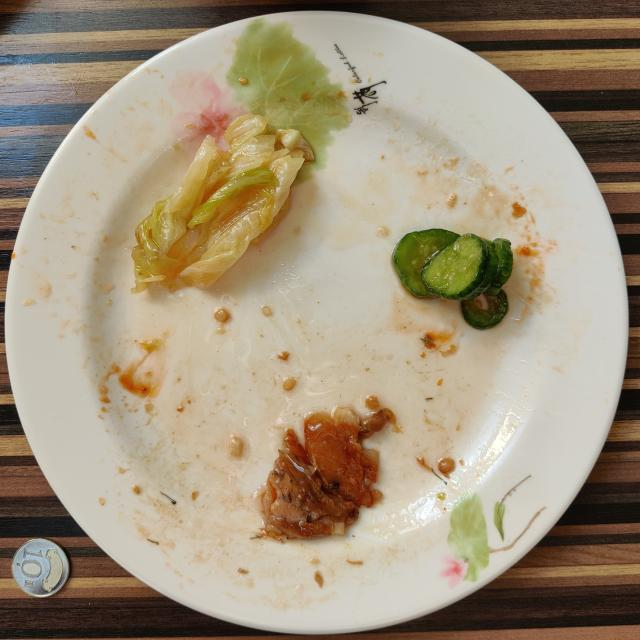Kabayaki sea bream fillet: (261, 396, 395, 540)
cabbage: (132, 114, 315, 292)
coin: (12, 539, 70, 598)
cucumber: (392, 229, 512, 329)
